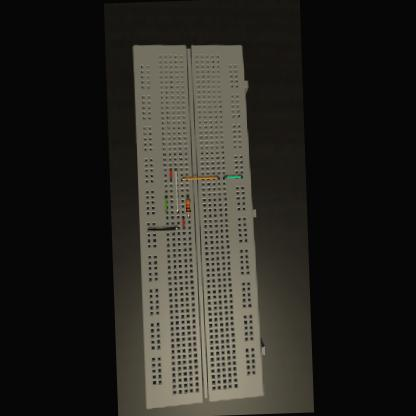breadboard: (131, 42, 266, 410)
resistor: (184, 198, 190, 213)
wire: (146, 228, 178, 232), (174, 170, 177, 212), (180, 177, 218, 180), (163, 196, 167, 213), (223, 176, 242, 178), (169, 170, 171, 182), (182, 218, 184, 228), (188, 214, 189, 217), (186, 195, 187, 198)
